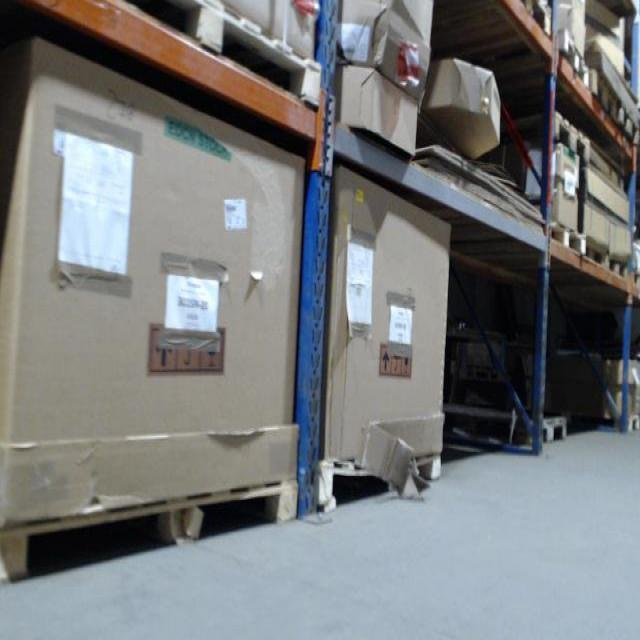pallet: (0, 477, 301, 587), (124, 0, 323, 113), (318, 446, 442, 511), (549, 110, 590, 163), (556, 30, 589, 90), (588, 66, 621, 125), (514, 0, 552, 40), (547, 224, 587, 257), (613, 101, 640, 146), (538, 416, 567, 442), (584, 237, 607, 267), (604, 255, 628, 278), (623, 414, 638, 431)
